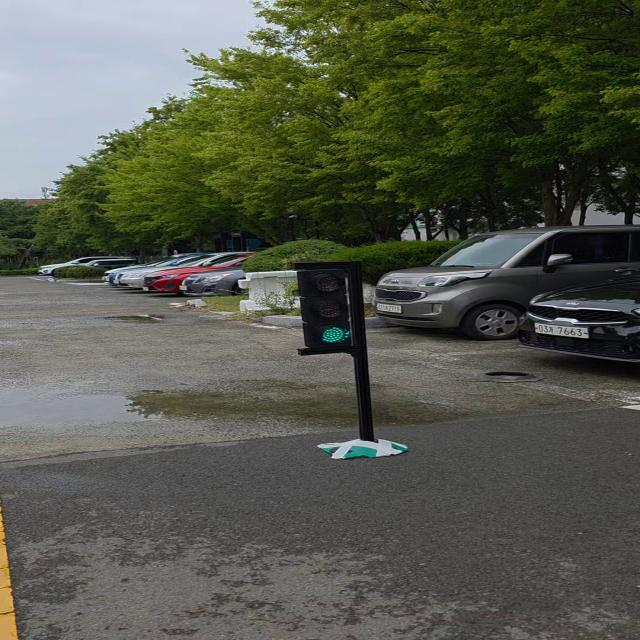green: (298, 266, 364, 352)
